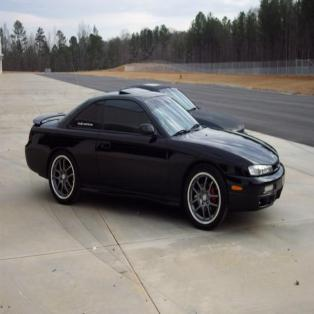Auto: (23, 84, 286, 232)
